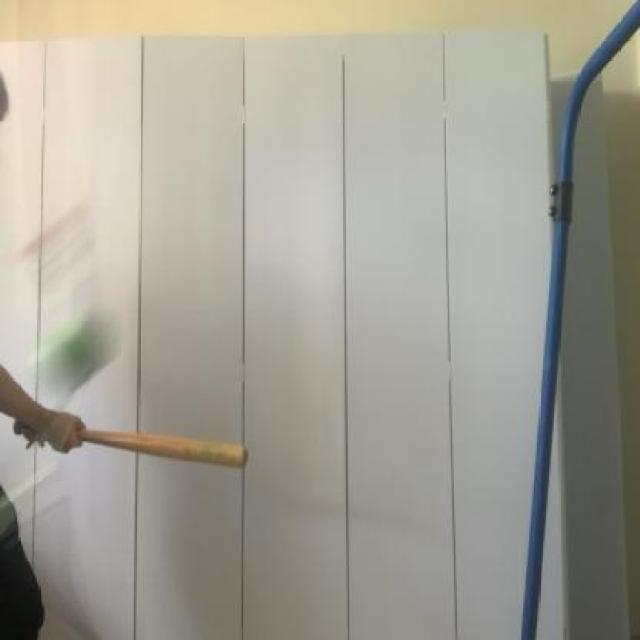baseball: (36, 296, 126, 418)
